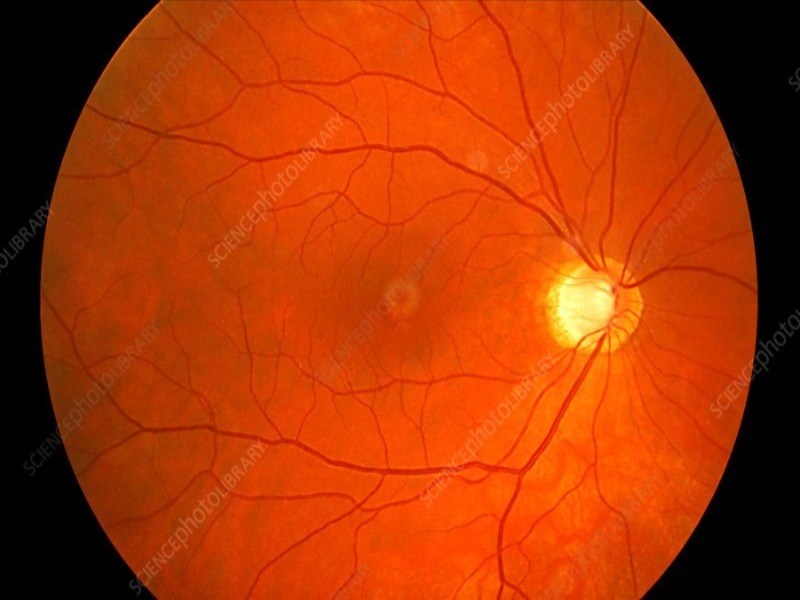Optic Cup: (555, 264, 611, 342)
Optic Disc: (545, 259, 644, 359)
